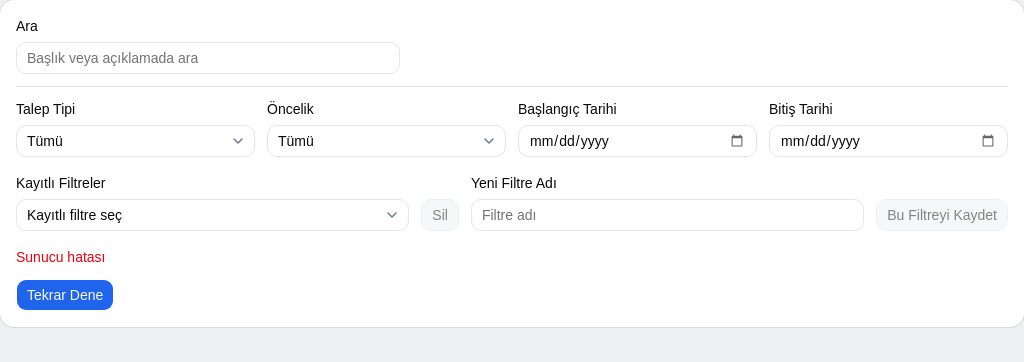
Test case: Queue page › shows an error message and a working retry button on fetch failure
Expected: the message reads "Sunucu hatası", [16,249,106,265]
Click the button "Tekrar Dene". click: (65,295)
box: [16,279,114,311]
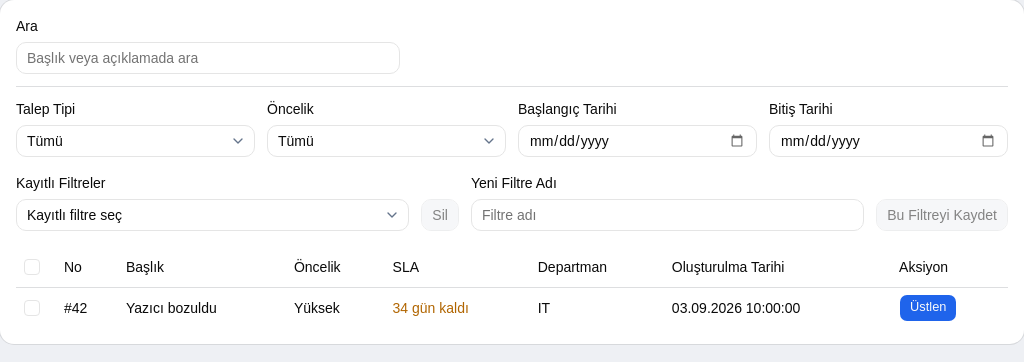
Now the table is shown, box [16,247,1008,328]
